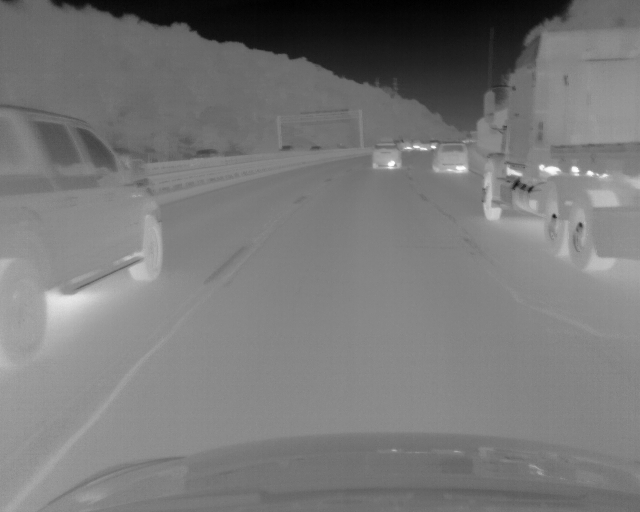car: (1, 102, 168, 367), (481, 32, 640, 275), (432, 143, 468, 173), (373, 142, 402, 170), (401, 139, 413, 153), (418, 140, 429, 152), (278, 144, 292, 151), (309, 145, 322, 151)
